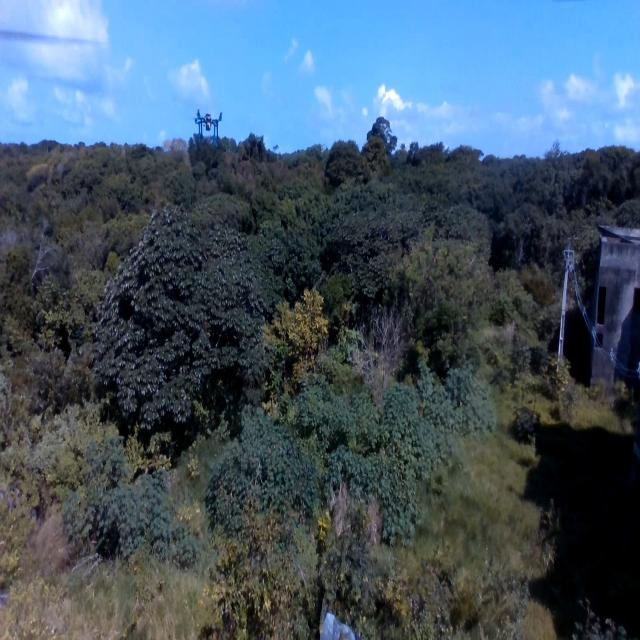-uav-: (191, 99, 228, 154)
